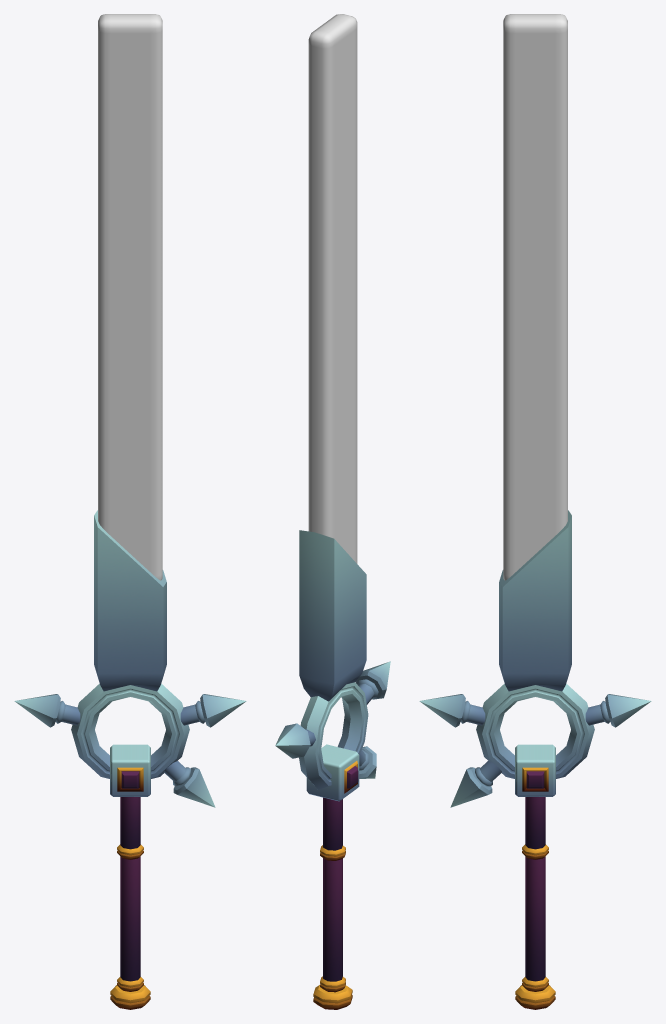
Rendered from Sword.fbx.
3 views of the same model, side by side, from view 1: azimuth 90°, elevation 25°; view 2: azimuth 150°, elevation 25°; view 3: azimuth 270°, elevation 25° (orthographic).
Parts seen in each view (by area): view 1: Sword; view 2: Sword; view 3: Sword.
Part boxes in pixels (x1,y1,x2,y2): Sword: (14, 14, 246, 1009); Sword: (275, 14, 390, 1009); Sword: (419, 14, 651, 1009).
Size of the model in its own units: 10 by 211 by 45.
